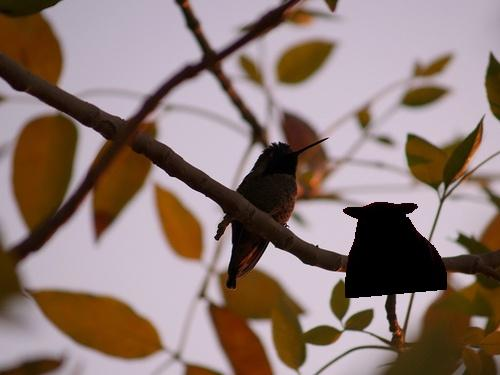tampered: (344, 203, 447, 298)
